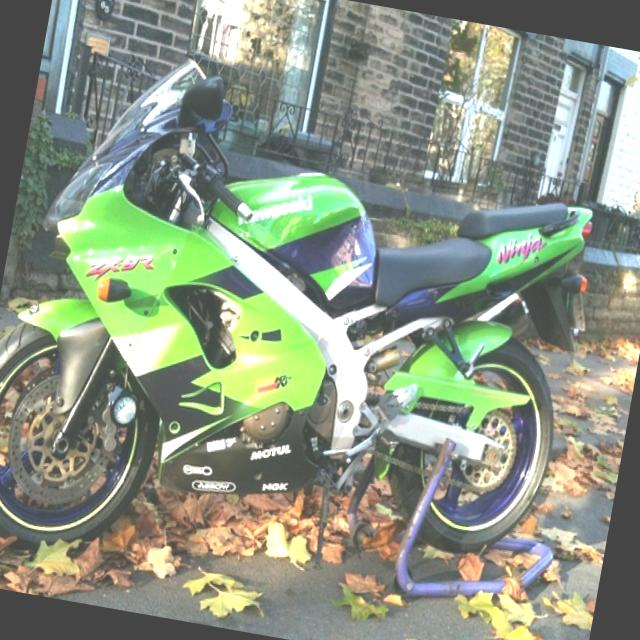Vehicle: (0, 24, 617, 636)
